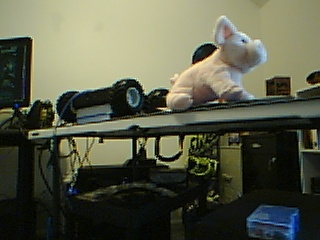piggy: (164, 14, 268, 112)
